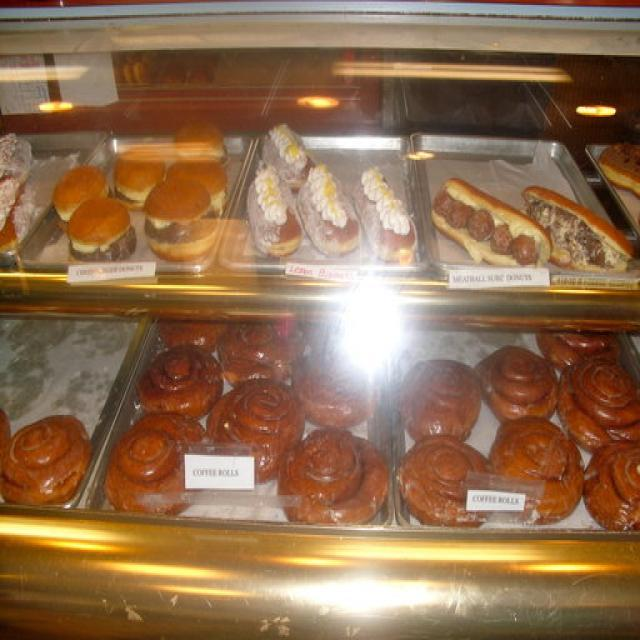Donuts: (5, 303, 640, 569)
